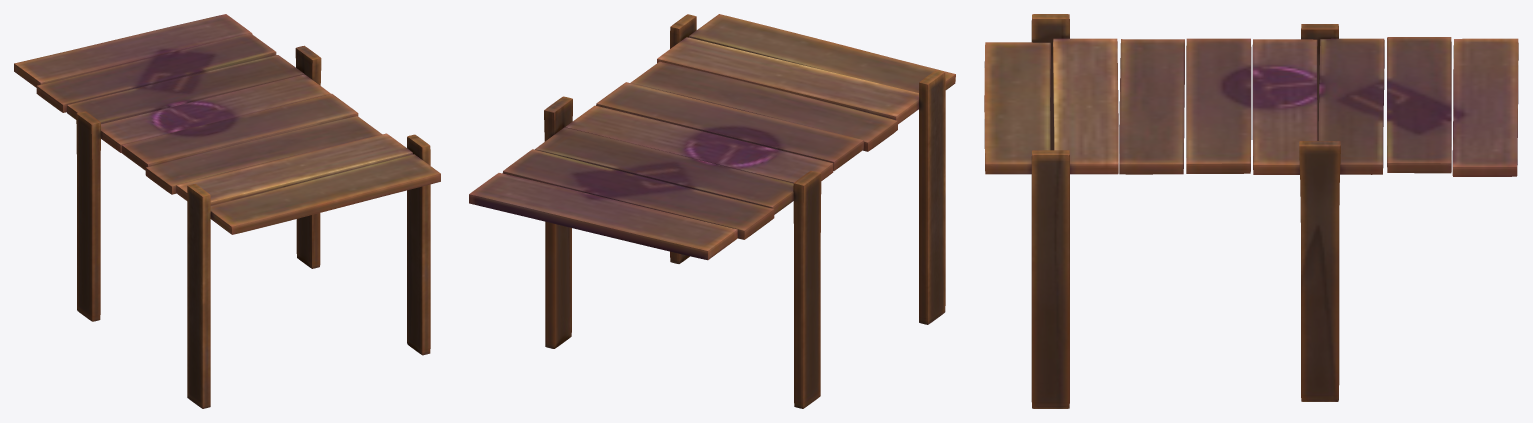
File: mutou1.FBX
The picture shows the model from 3 angles, left to right: view 1: azimuth 30°, elevation 25°; view 2: azimuth 150°, elevation 25°; view 3: azimuth 270°, elevation 25°; orthographic projection. The views are drawn at different scales.
Visible parts, largest first — view 1: Object003; view 2: Object003; view 3: Object003.
Boxes of the visible parts, x1,y1,x2,y2 form: Object003: (14, 14, 440, 408); Object003: (469, 14, 955, 408); Object003: (984, 14, 1518, 408).
Bounding box in the file's own units: 223 × 200 × 368.
